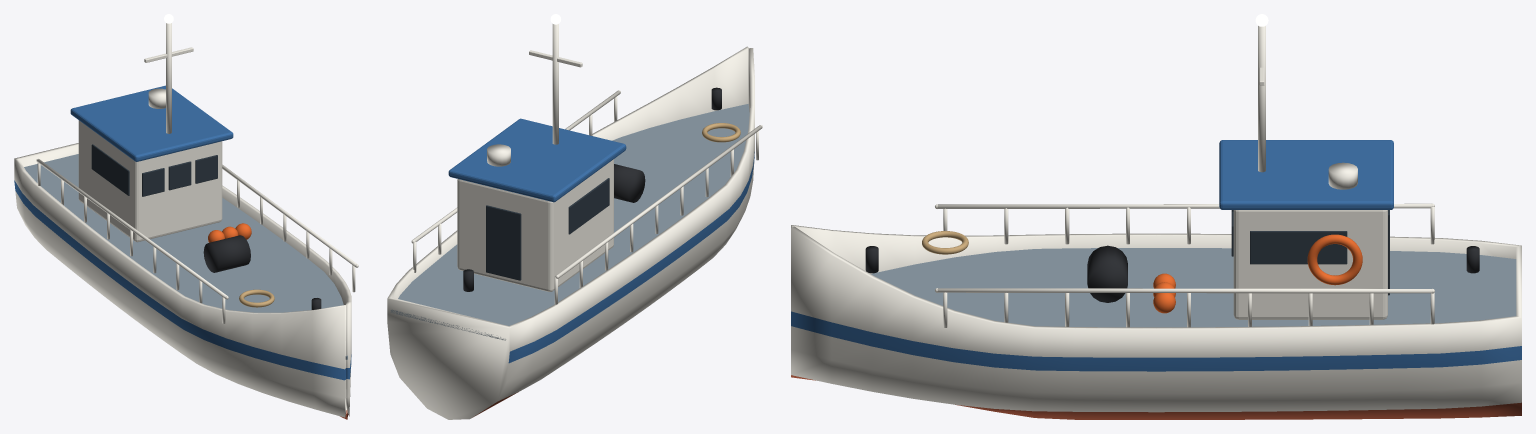
Rendered from boat.glb.
3 views of the same model, side by side, from view 1: azimuth 30°, elevation 25°; view 2: azimuth 150°, elevation 25°; view 3: azimuth 270°, elevation 25° (orthographic). The views are drawn at different scales.
Visible parts, largest first — view 1: boatBody; view 2: boatBody; view 3: boatBody.
Part boxes in pixels (<box>): boatBody: <box>14,14,358,419</box>; boatBody: <box>387,14,762,419</box>; boatBody: <box>791,14,1521,419</box>.
Size of the model in its own units: 2.8 by 5.38 by 9.
